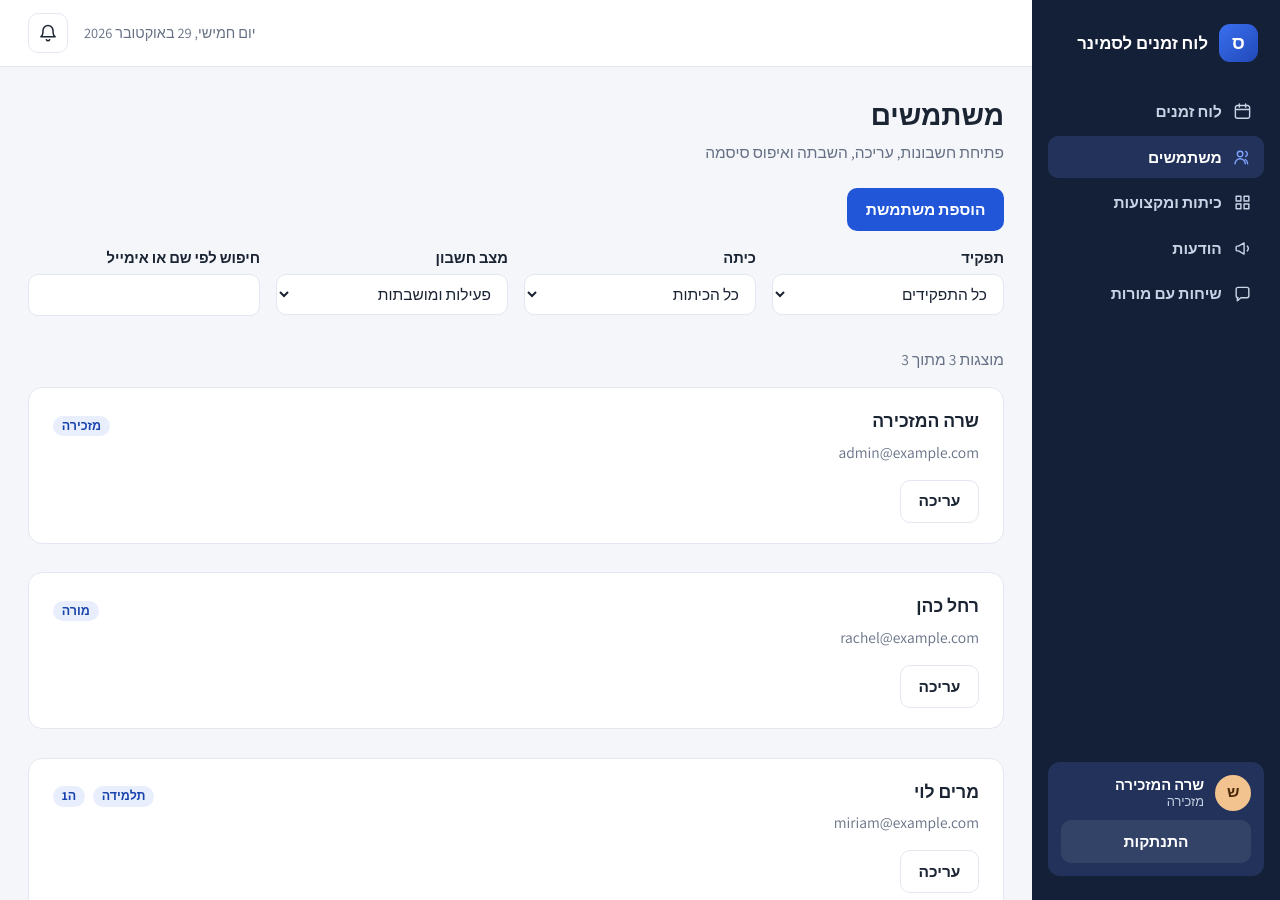
Test: ניהול משתמשים › יצירת חשבון › אימייל שכבר קיים מציג את הודעת השרת
This screenshot has width=1280, height=900.
Click the button "הוספת משתמשת" at [926, 209], box [847, 188, 1004, 231]
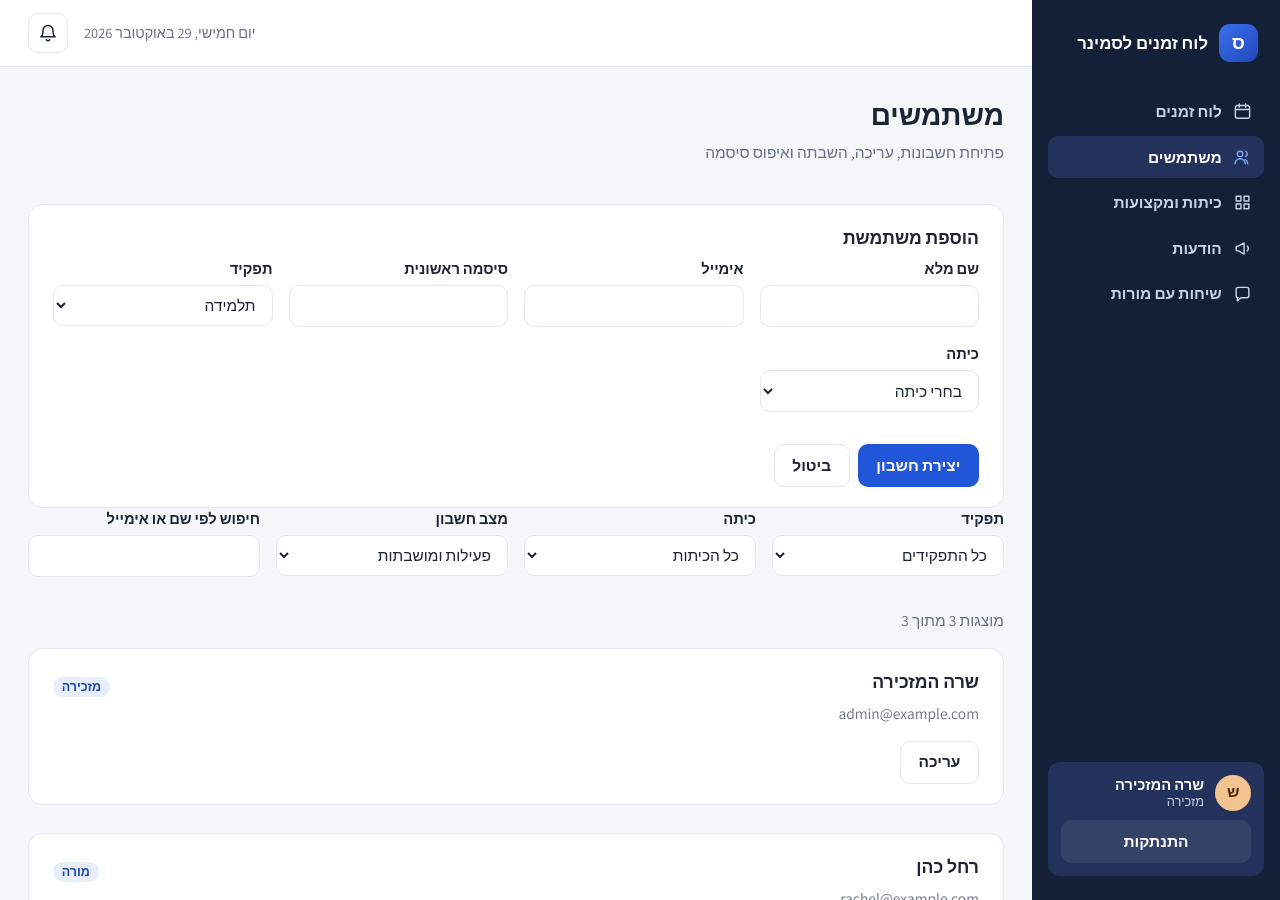
Type "מישהי" into the field labelled "שם מלא" at [869, 306], box [760, 284, 979, 327]
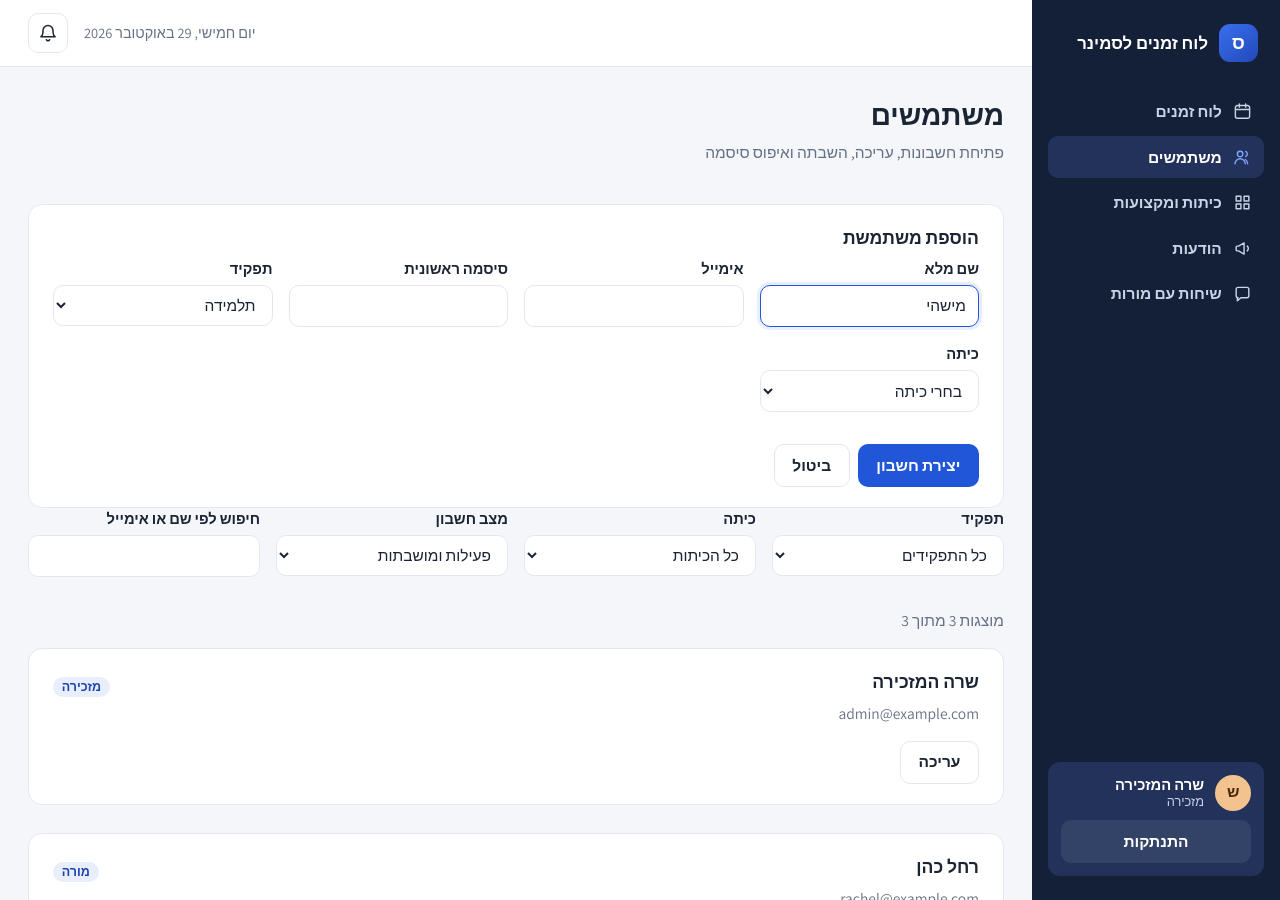
Type "taken@example.com" into the field labelled "אימייל" at [634, 306], box [524, 284, 744, 327]
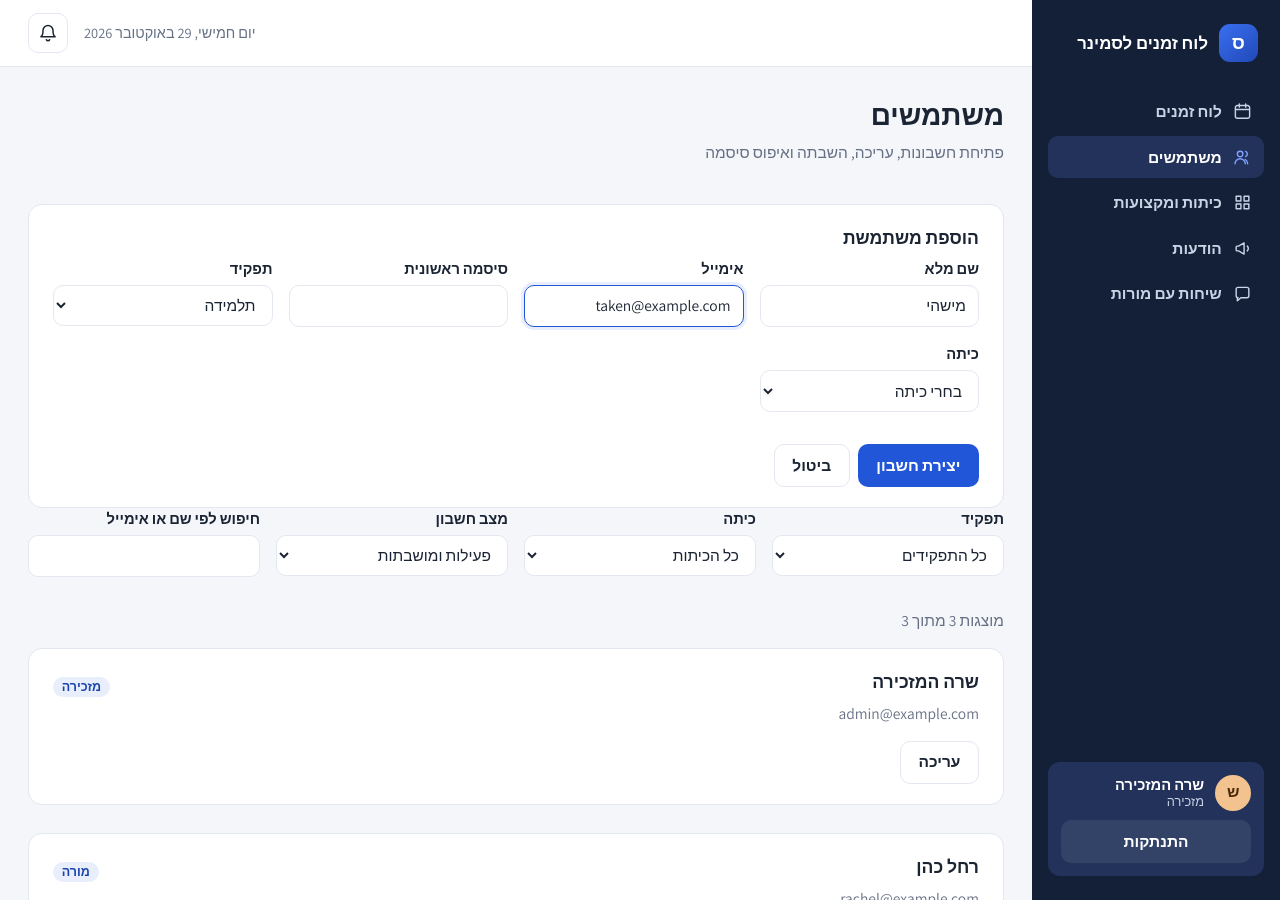
Type "Password123!" into the password field labelled "סיסמה ראשונית" at [398, 306], box [288, 284, 508, 327]
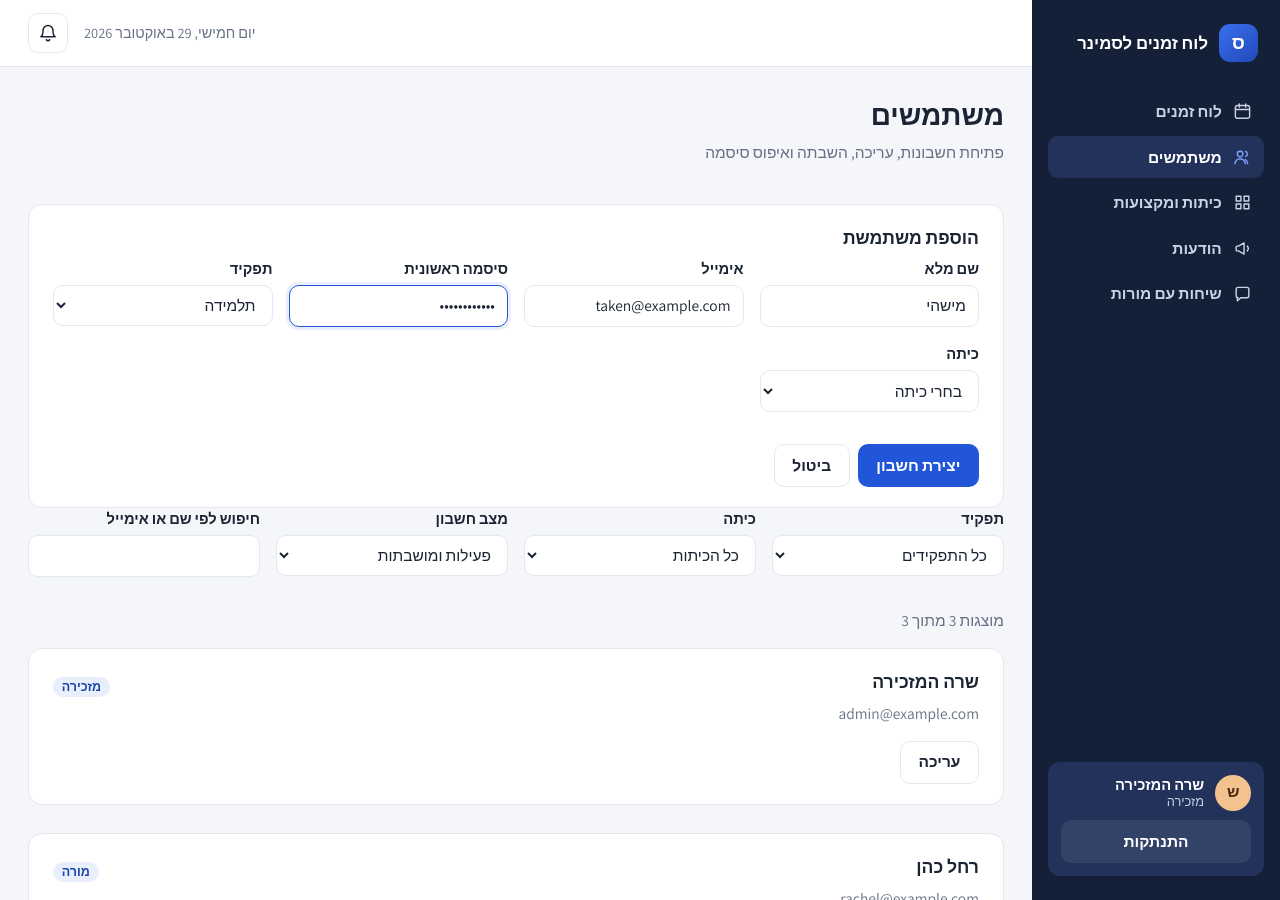
Select "מורה" in the dropdown labelled "תפקיד" below "סיסמה ראשונית" at [163, 305], box [53, 284, 272, 326]
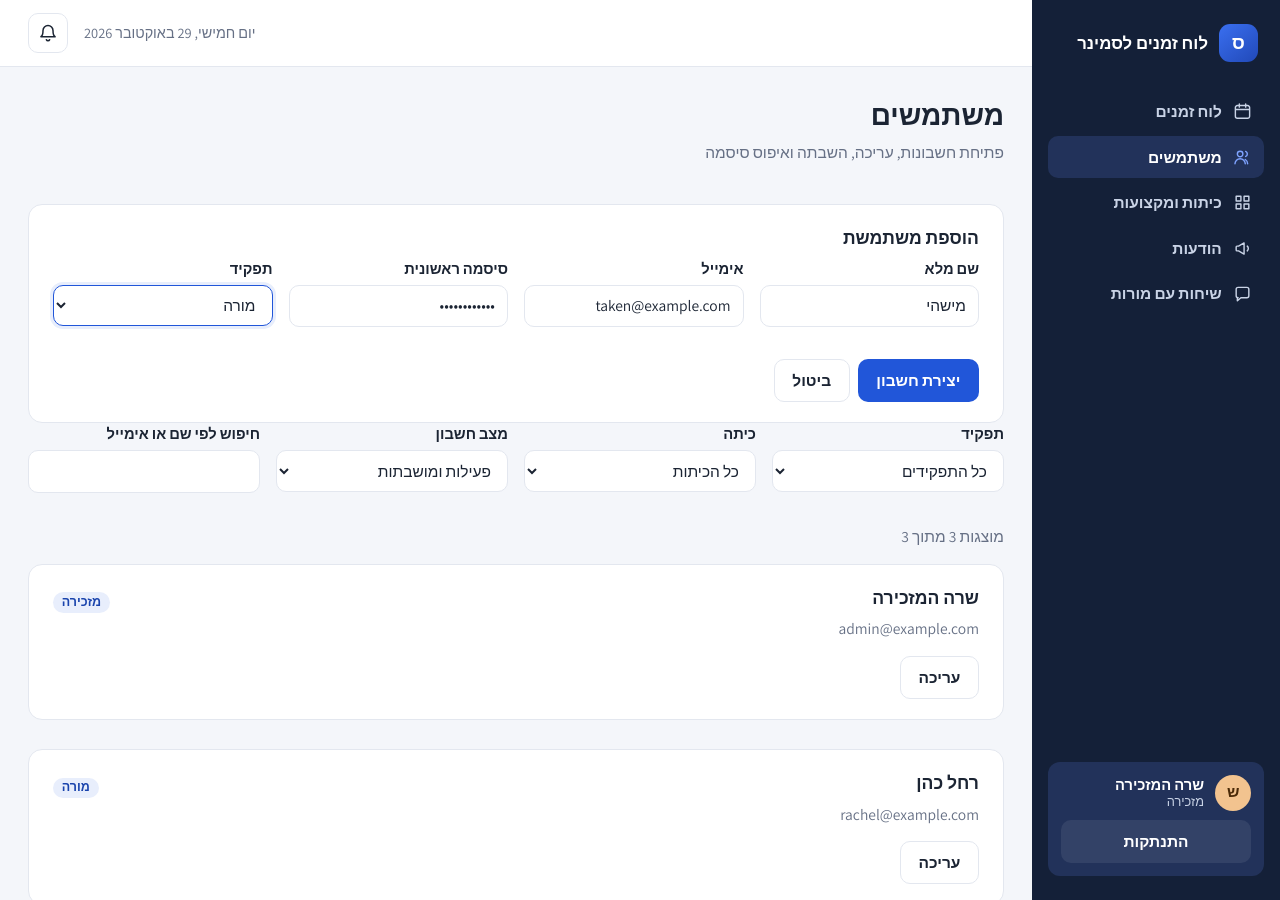
Click the button "יצירת חשבון" at [918, 381], box [858, 359, 979, 402]
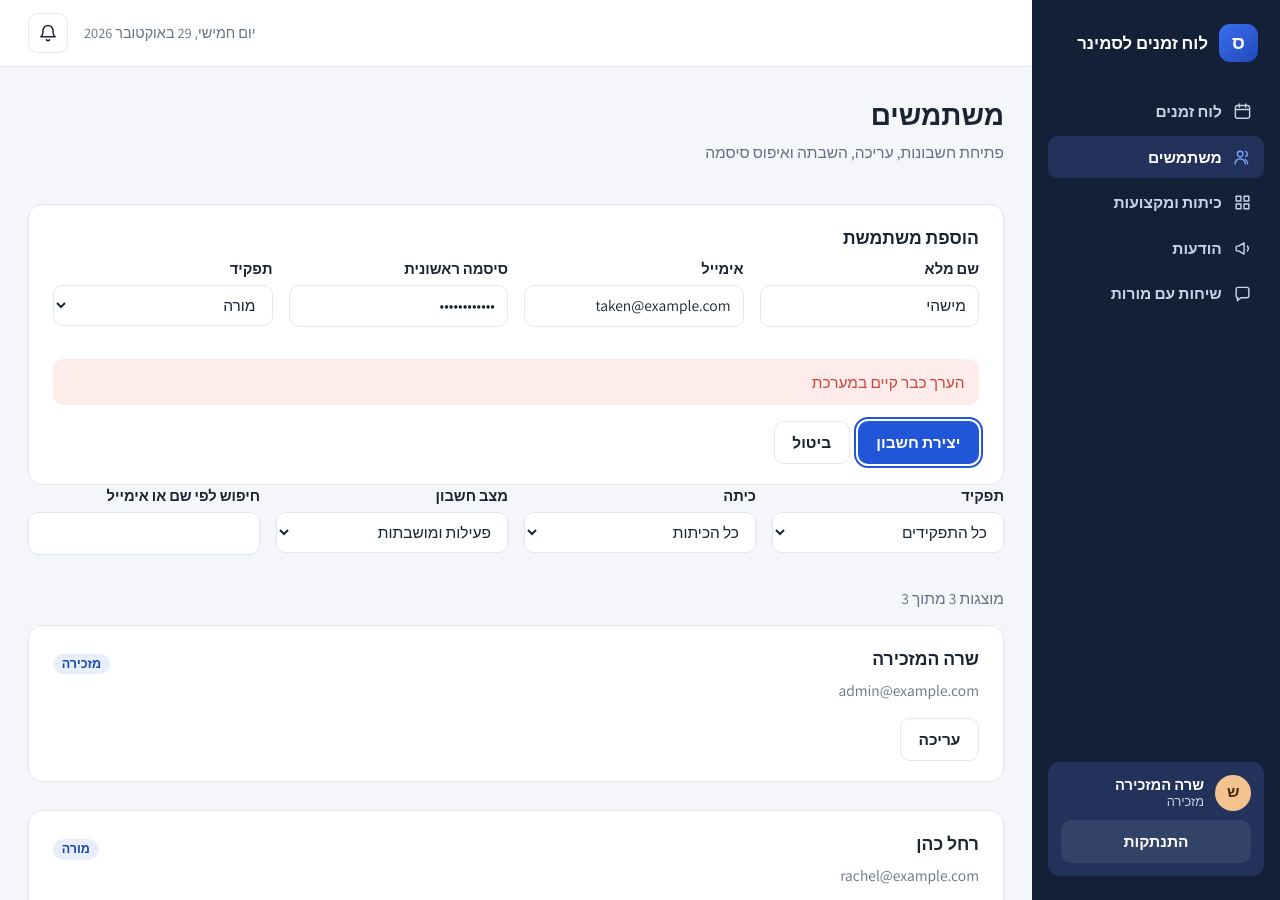
Result: the message reads "הערך כבר קיים במערכת" at [812, 372, 965, 392]
